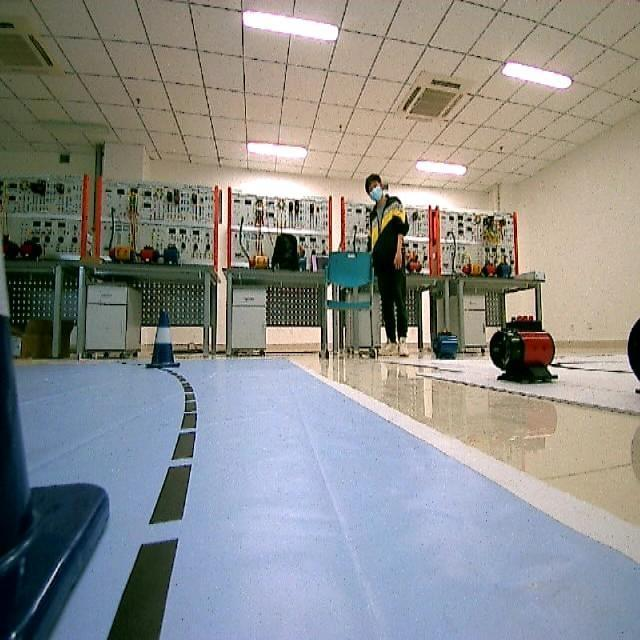obstacle: (137, 310, 184, 370)
